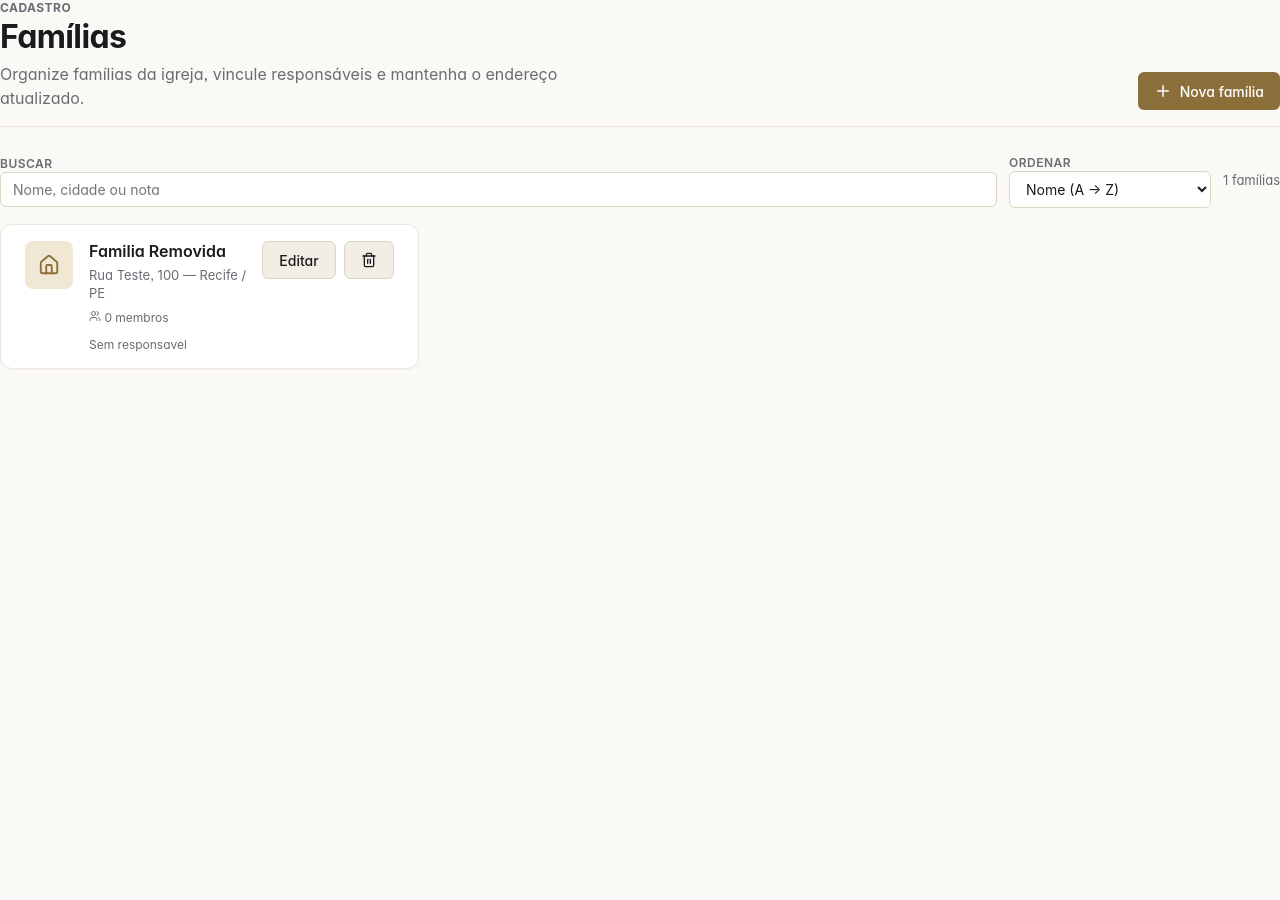
HouseholdsView › archives a household after confirmation
This screenshot has width=1280, height=900.
Expected: the heading "Familia Removida" is shown, left=89, top=241, right=226, bottom=262
Click the button named "Arquivar familia Familia Removida".
click(369, 260)  # box left=344, top=241, right=394, bottom=279
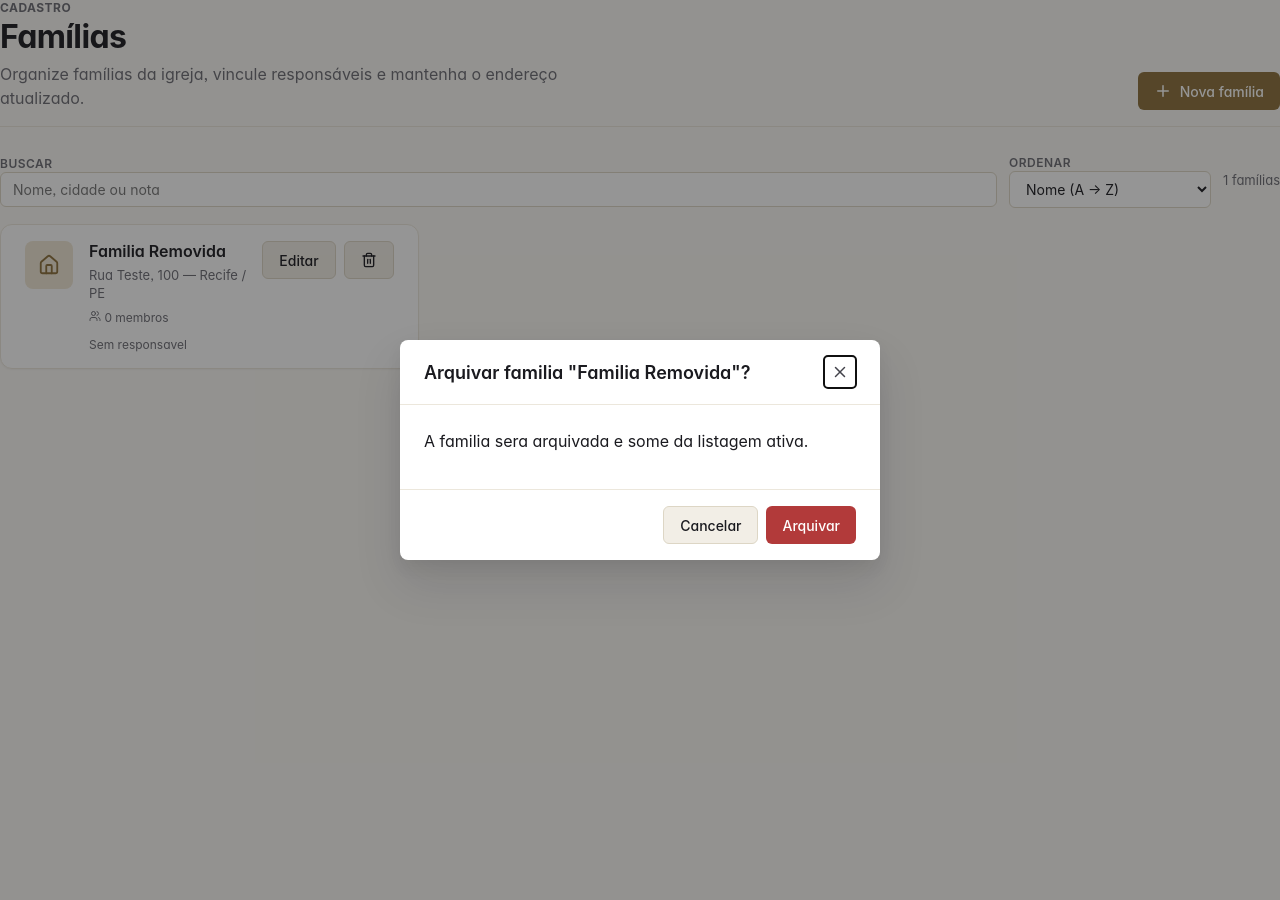
Click the button with test id "confirm-dialog-confirm".
click(811, 525)  # box left=766, top=506, right=856, bottom=544
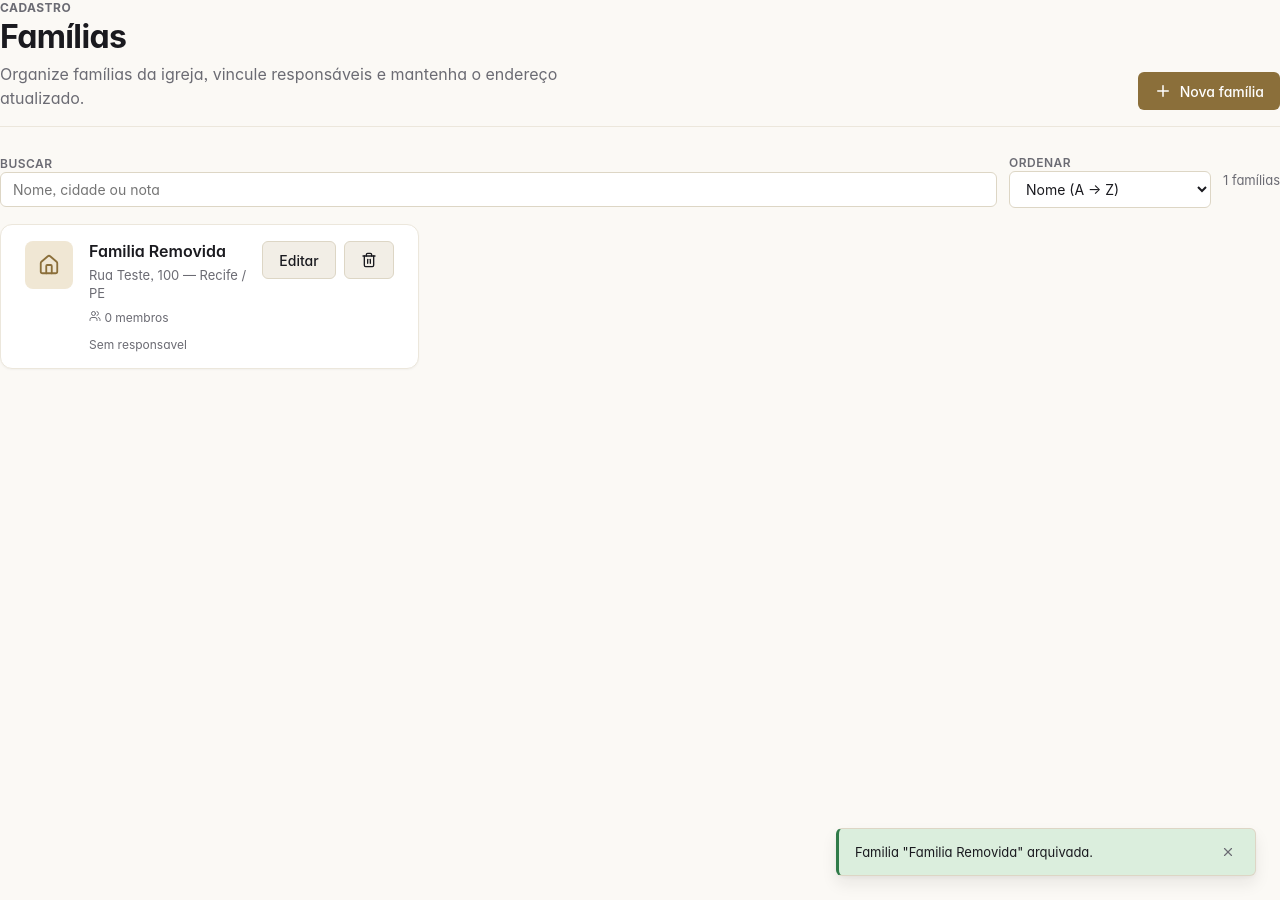
Now the text "Familia \"Familia Removida\" arquivada." is shown, box left=855, top=844, right=1093, bottom=860
